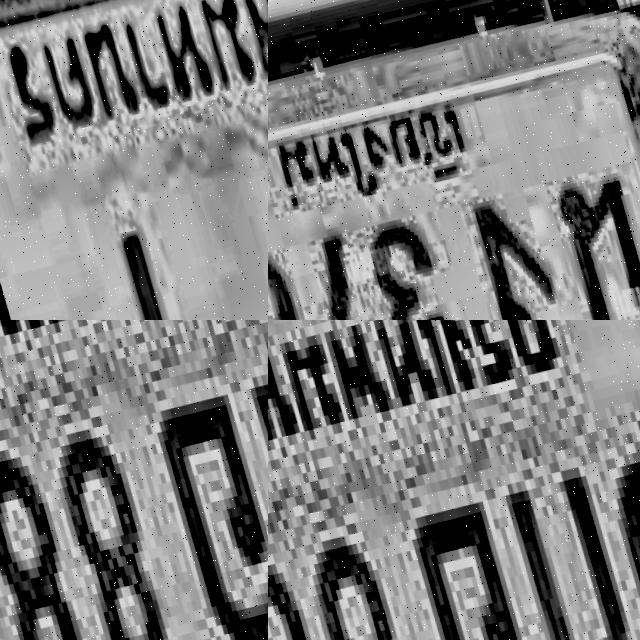license-plate: (268, 0, 640, 320), (268, 320, 640, 640), (0, 0, 268, 320), (0, 320, 268, 640)
